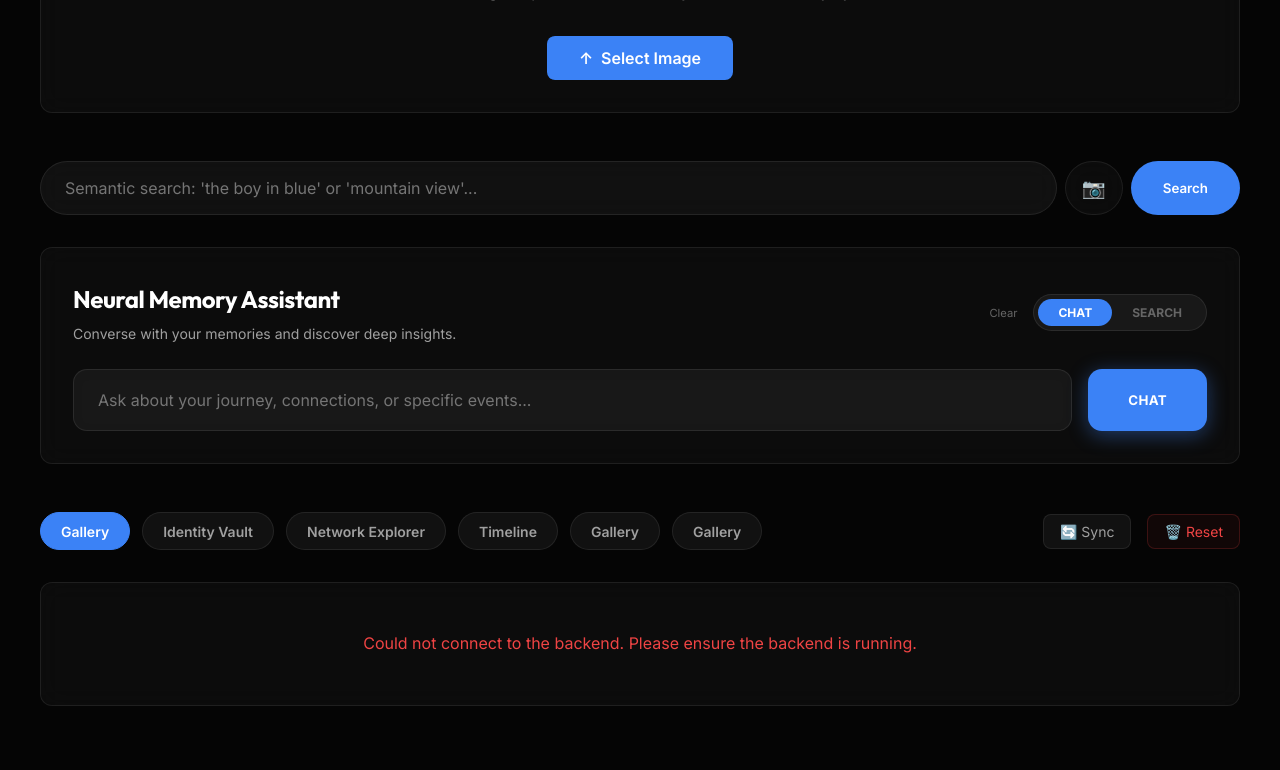
Test: Image Memory App E2E Tests › should allow chatting with the memory assistant
The width and height of the screenshot is (1280, 770).
(page scrolled)
In the field with placeholder "Ask about your journey, connections, or specific events...": (573, 400) x1=73 y1=369 x2=1072 y2=431, type "Who is in my memories?"
Then press Enter
(page scrolled)
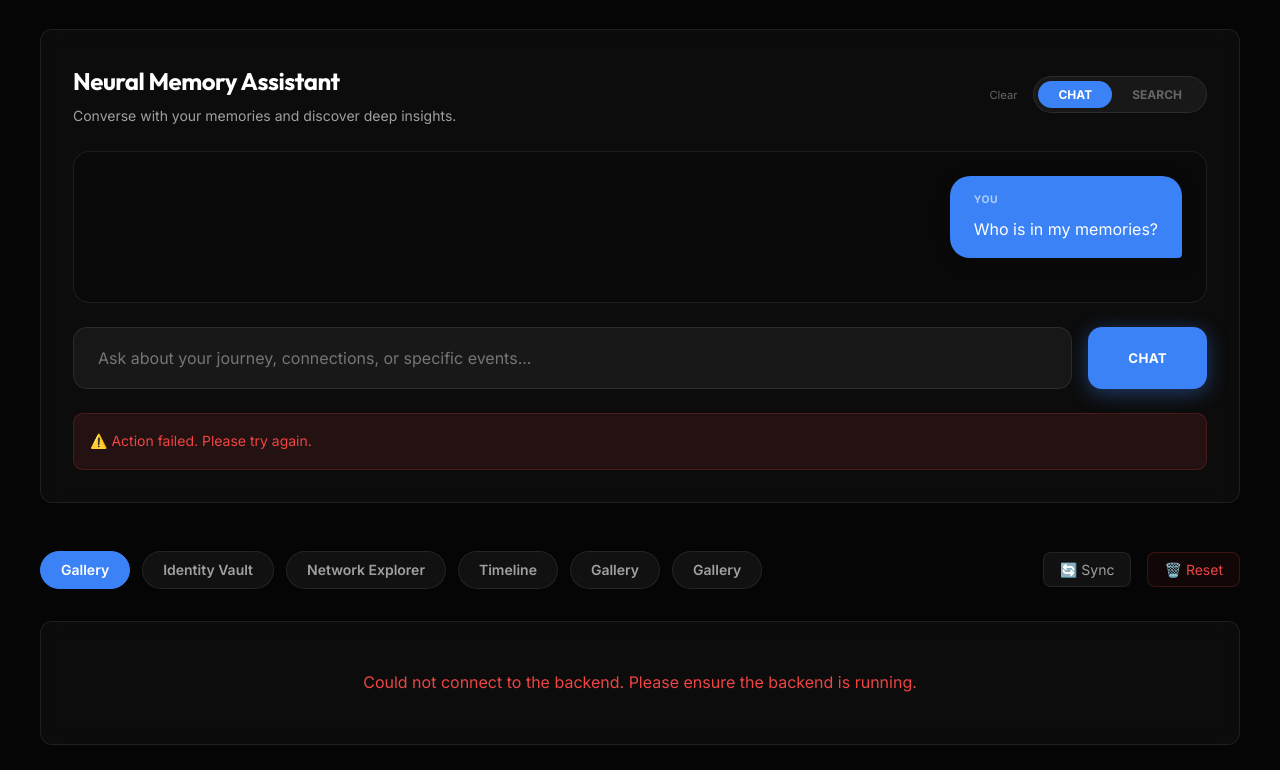
Expected: the heading "Neural Memory Assistant" is shown, x1=73 y1=66 x2=340 y2=96
Expected: the text "Who is in my memories?" is shown, x1=974 y1=219 x2=1158 y2=239
